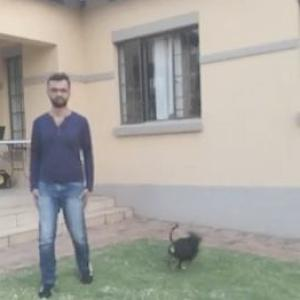follow: (26, 73, 98, 293)
